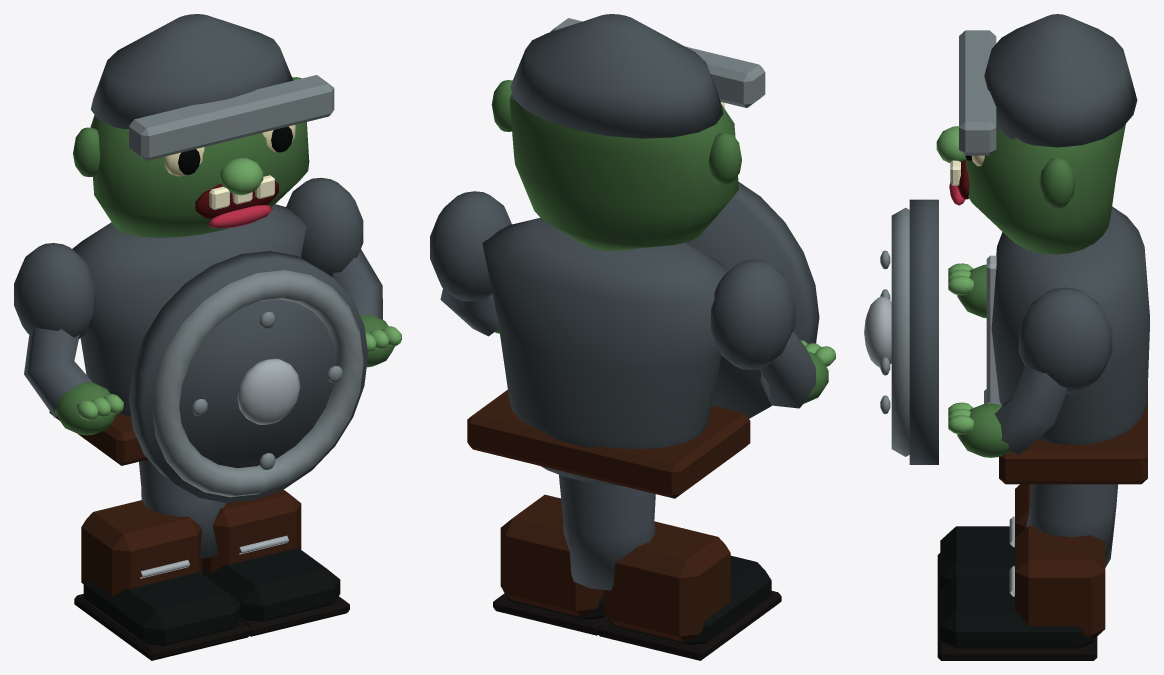
File: shield.glb
The picture shows the model from 3 angles, left to right: view 1: azimuth 30°, elevation 25°; view 2: azimuth 150°, elevation 25°; view 3: azimuth 270°, elevation 25°; orthographic projection. The views are drawn at different scales.
Parts seen in each view (by area): view 1: Arms, Head, LegL, Body, LegR; view 2: Body, Head, Arms, LegL, LegR; view 3: Head, Arms, Body, LegR, LegL.
Boxes of the visible parts, x1,y1,x2,y2 form: Arms: (14, 177, 401, 502); Head: (73, 14, 334, 237); LegL: (74, 459, 250, 660); Body: (49, 204, 306, 465); LegR: (141, 487, 349, 636); Body: (467, 217, 750, 498); Head: (491, 14, 765, 251); Arms: (430, 181, 835, 418); LegL: (559, 474, 781, 660); LegR: (493, 475, 614, 635); Head: (936, 14, 1137, 254); Arms: (864, 199, 1112, 464); Body: (984, 206, 1149, 484); LegR: (937, 484, 1117, 660); LegL: (937, 484, 1117, 603).
Bounding box in the file's own units: 0.7829 × 1.22 × 0.5365.
Materials: 1 (1 with a texture image).
